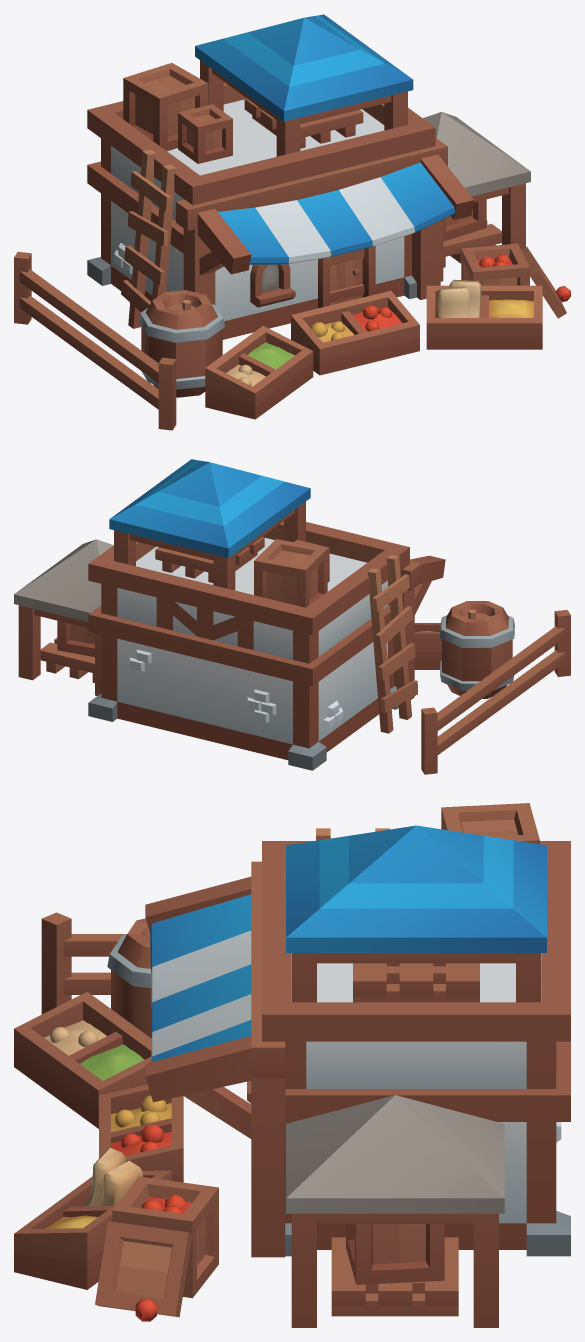
Rendered from market.glb.
The picture shows the model from 3 angles, top to bottom: view 1: azimuth 30°, elevation 25°; view 2: azimuth 150°, elevation 25°; view 3: azimuth 270°, elevation 25°; orthographic projection. The views are drawn at different scales.
Visible parts, largest first — view 1: building_market_blue; view 2: building_market_blue; view 3: building_market_blue.
Boxes of the visible parts, x1,y1,x2,y2 form: building_market_blue: (14, 14, 570, 430); building_market_blue: (14, 459, 570, 774); building_market_blue: (14, 803, 570, 1327).
Bounding box in the file's own units: 1.8 × 0.9816 × 1.32.
1 material, 1 textured.
